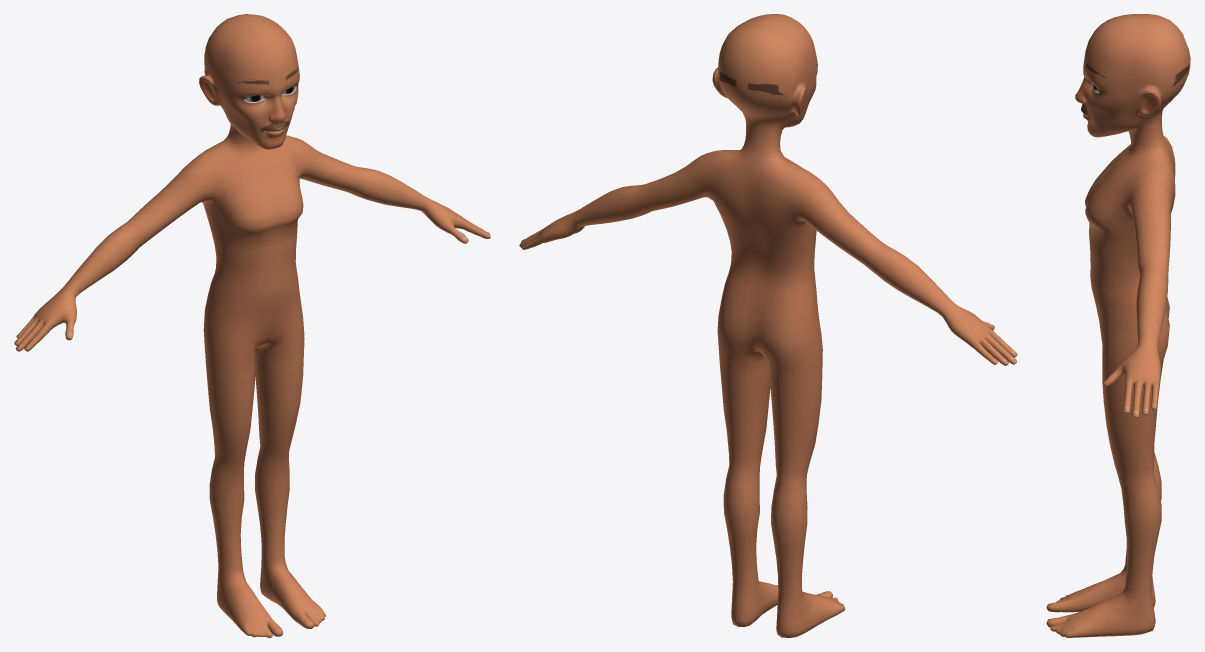
File: frame_0004.glb
3 renders of one model, left to right at view 1: azimuth 30°, elevation 25°; view 2: azimuth 150°, elevation 25°; view 3: azimuth 270°, elevation 25°, orthographic. The views are drawn at different scales.
Parts seen in each view (by area): view 1: frame_0004_head_geo; view 2: frame_0004_head_geo; view 3: frame_0004_head_geo.
Part boxes in pixels (x1,y1,x2,y2): frame_0004_head_geo: (14,14,490,637); frame_0004_head_geo: (519,14,1017,637); frame_0004_head_geo: (1046,14,1190,637).
Size of the model in its own units: 1.28 by 1.5 by 0.3253.
Materials: 4 (2 with a texture image).
